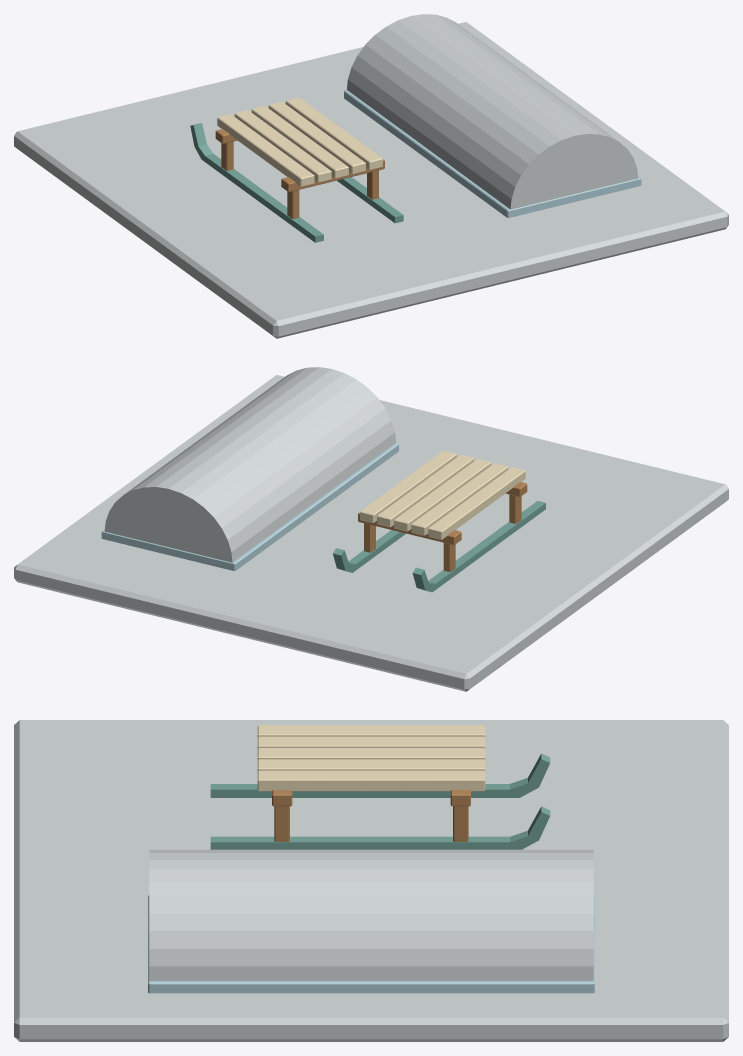
3 views of the same model, one above another, from view 1: azimuth 30°, elevation 25°; view 2: azimuth 150°, elevation 25°; view 3: azimuth 270°, elevation 25° (orthographic). The views are drawn at different scales.
Parts seen in each view (by area): view 1: winter-rest-corner-scene-01; view 2: winter-rest-corner-scene-01; view 3: winter-rest-corner-scene-01.
Part boxes in pixels (x1=…): winter-rest-corner-scene-01: x1=14, y1=14, x2=728, y2=338; winter-rest-corner-scene-01: x1=14, y1=367, x2=728, y2=691; winter-rest-corner-scene-01: x1=14, y1=720, x2=728, y2=1041.
Size of the model in its own units: 3.2 by 0.562 by 3.2.
